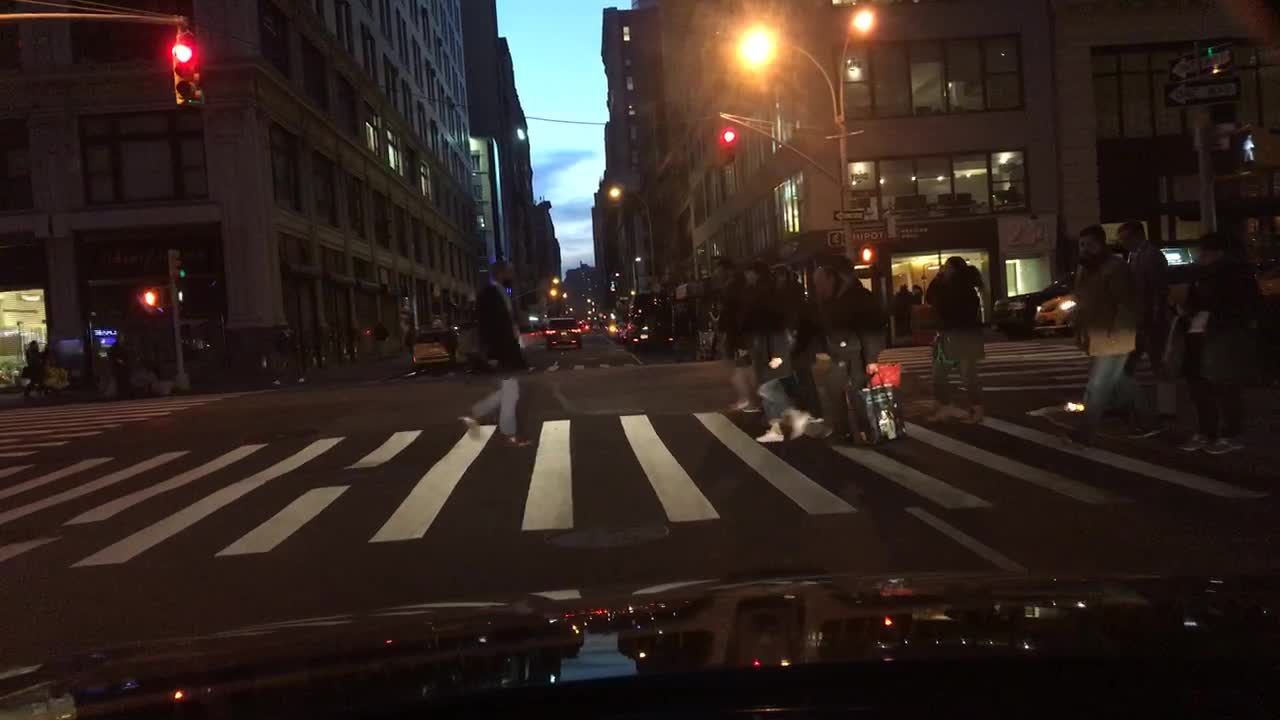car: (983, 239, 1209, 340), (1031, 268, 1193, 333), (407, 314, 457, 367), (620, 316, 666, 349), (543, 315, 582, 350), (610, 320, 625, 336), (576, 321, 590, 336)
person: (1064, 224, 1162, 449), (1165, 233, 1256, 453), (1104, 222, 1185, 428), (457, 257, 536, 448), (808, 265, 889, 447), (741, 256, 809, 443), (918, 248, 987, 424), (769, 265, 826, 425), (707, 254, 755, 413), (264, 320, 308, 389), (103, 324, 138, 399), (18, 338, 47, 400), (893, 280, 917, 348), (369, 316, 391, 357), (340, 320, 359, 362), (907, 279, 926, 301)
traffic light: (1224, 120, 1262, 169), (171, 37, 193, 101), (192, 46, 203, 101), (169, 253, 188, 284), (718, 129, 733, 166), (859, 242, 874, 265), (145, 287, 160, 309), (173, 290, 183, 304)
traffic sign: (1167, 48, 1236, 77), (1165, 80, 1236, 103), (835, 209, 863, 221)
